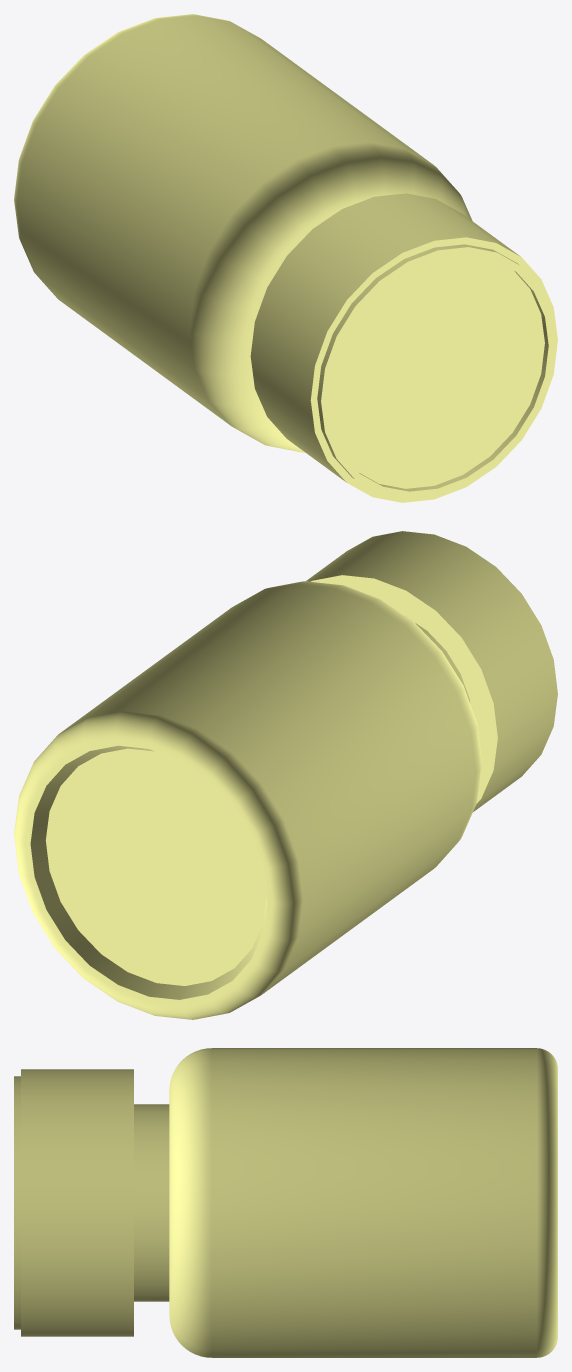
Rendered from model_scale.obj.
The picture shows the model from 3 angles, top to bottom: view 1: azimuth 30°, elevation 25°; view 2: azimuth 150°, elevation 25°; view 3: azimuth 270°, elevation 25°; orthographic projection. The views are drawn at different scales.
Visible parts, largest first — view 1: mesh1_mesh1-geometry; view 2: mesh1_mesh1-geometry; view 3: mesh1_mesh1-geometry.
Boxes of the visible parts, x1=… form: mesh1_mesh1-geometry: x1=14, y1=14, x2=557, y2=502; mesh1_mesh1-geometry: x1=14, y1=531, x2=557, y2=1019; mesh1_mesh1-geometry: x1=14, y1=1048, x2=557, y2=1357.
Bounding box in the file's own units: 0.0744 × 0.0744 × 0.1301.
